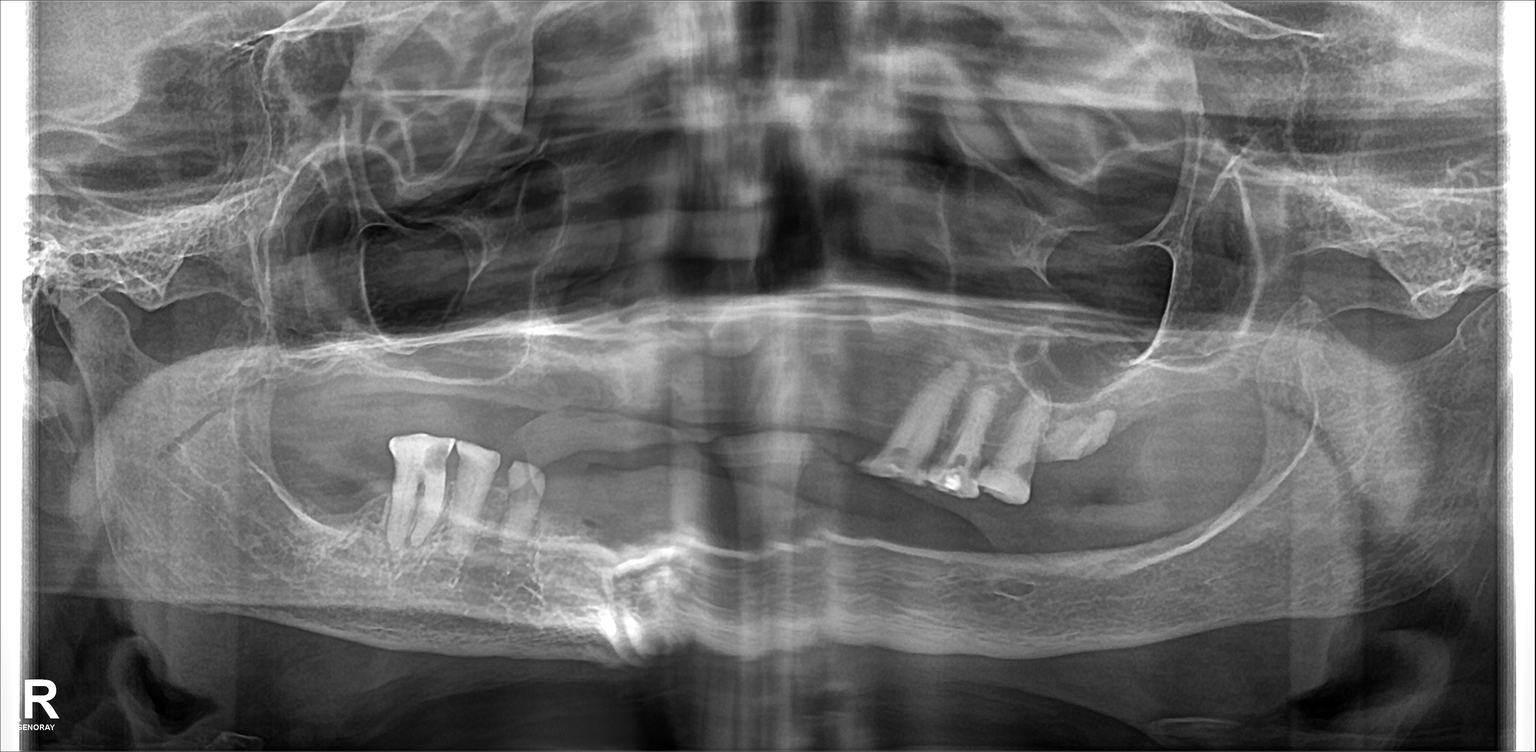Missing Tooth: (752, 337, 822, 435), (782, 504, 840, 612), (1162, 356, 1210, 480), (929, 516, 986, 611), (598, 467, 645, 582), (566, 335, 617, 435), (723, 493, 769, 600), (685, 333, 733, 432), (1218, 348, 1257, 468), (838, 331, 882, 436), (870, 517, 915, 615), (544, 473, 587, 573), (512, 337, 559, 428), (1119, 367, 1156, 480), (1175, 503, 1217, 602), (300, 463, 344, 554), (305, 344, 350, 432), (1119, 517, 1164, 603), (633, 342, 672, 441), (1058, 523, 1108, 599), (669, 486, 703, 591), (408, 333, 444, 432), (359, 329, 399, 416), (350, 465, 392, 545), (467, 331, 504, 420), (1004, 523, 1046, 594)
Retained Root: (1037, 391, 1107, 493)
